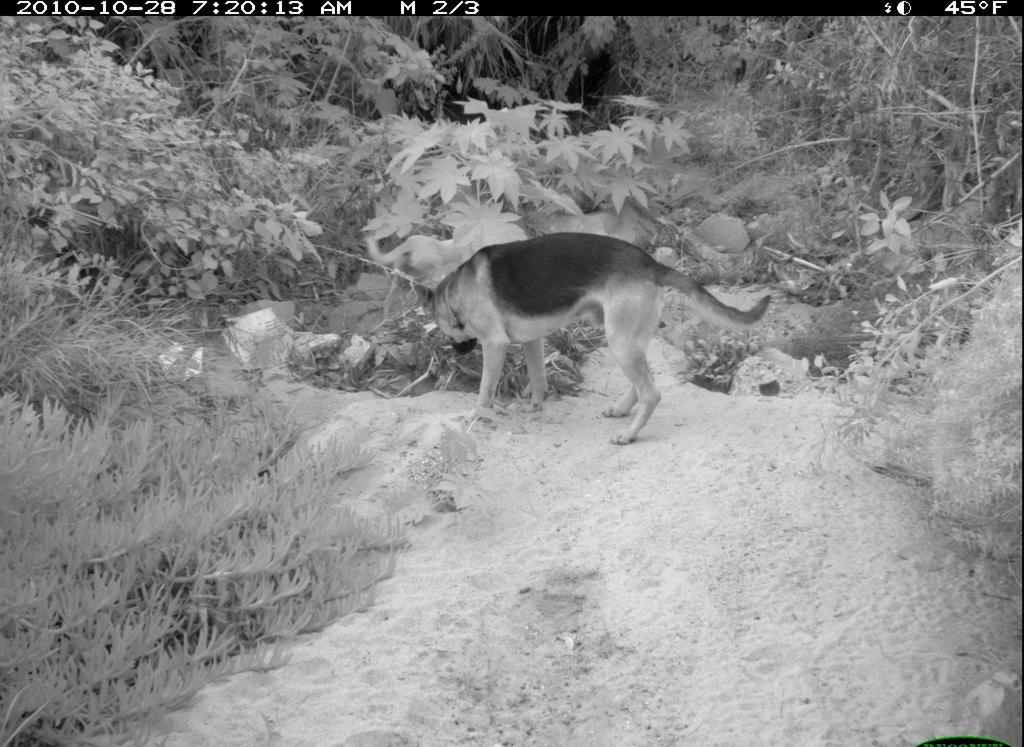dog: (409, 235, 774, 454)
